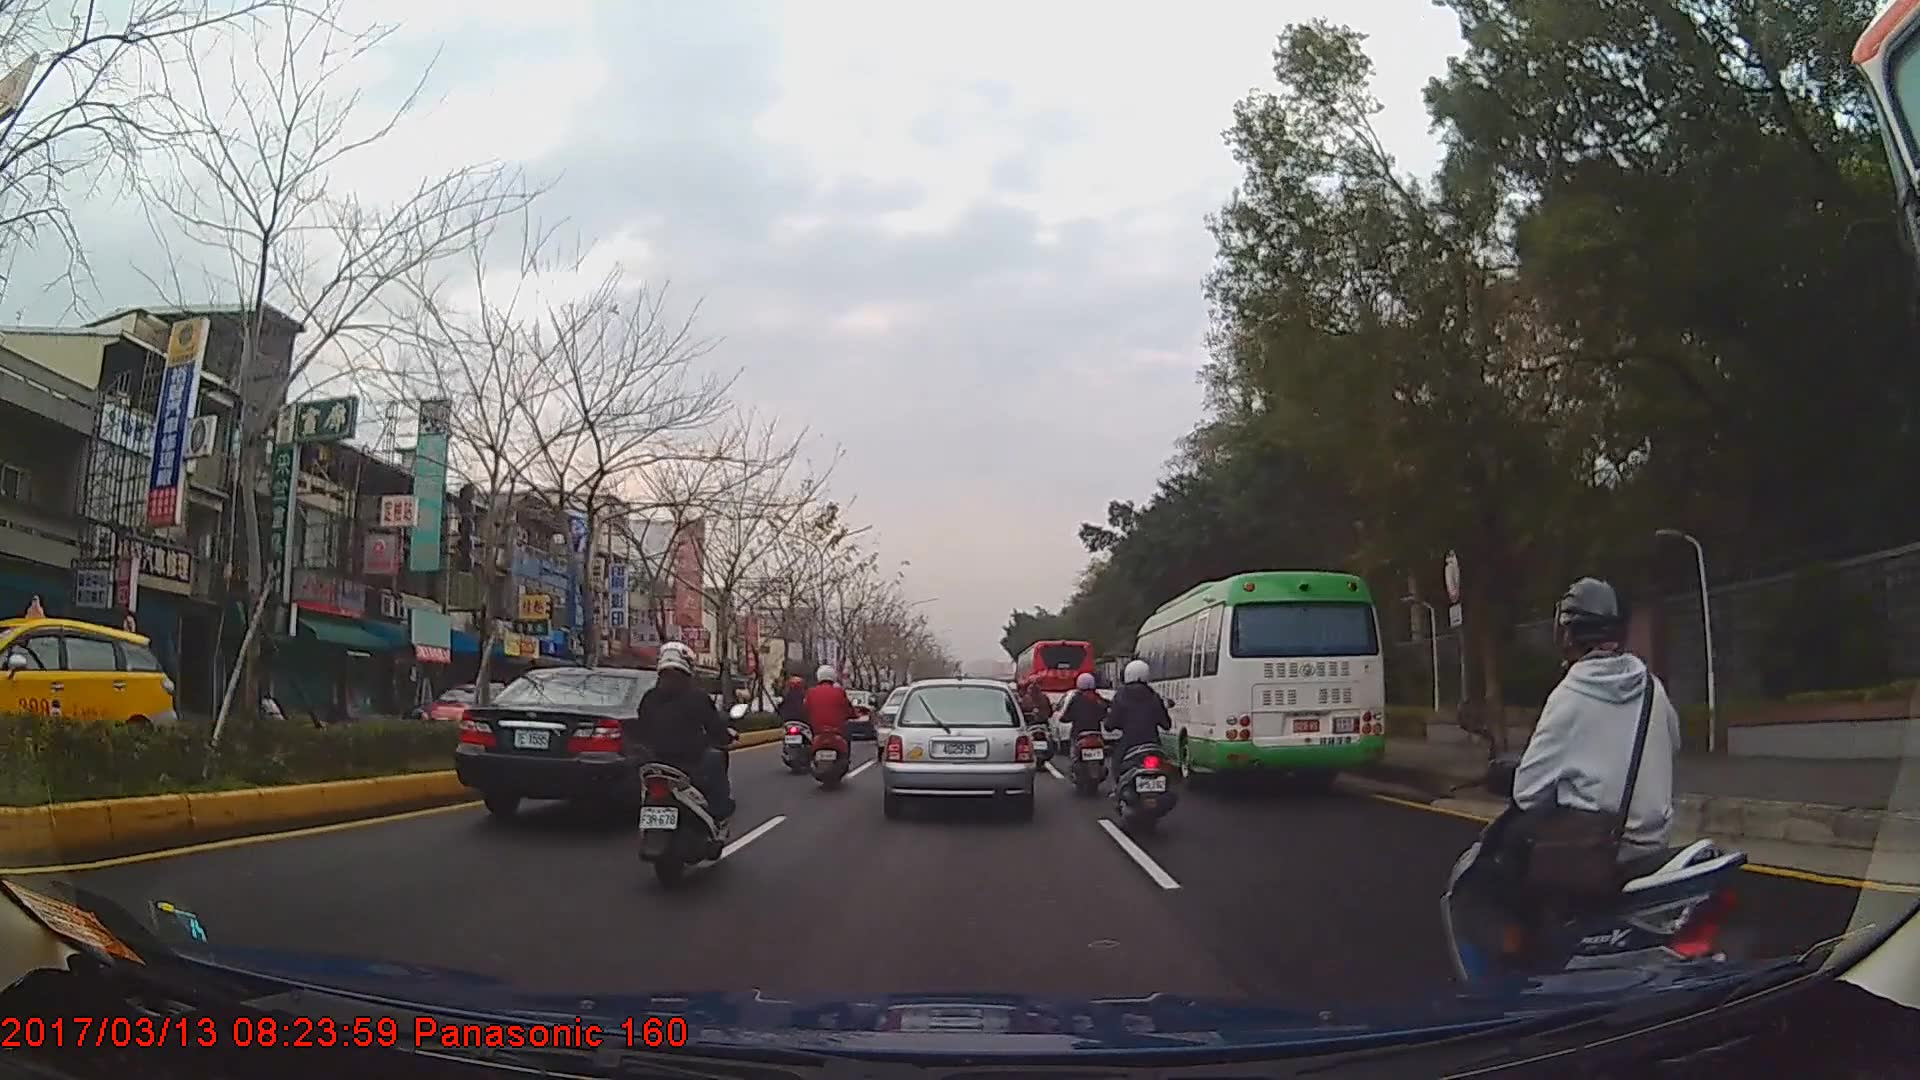rider: (1448, 575, 1753, 999), (635, 635, 745, 888), (1107, 658, 1184, 835), (1059, 669, 1113, 797), (804, 663, 854, 791), (778, 675, 818, 774), (1014, 670, 1051, 769)
vehicle: (1125, 570, 1388, 798), (452, 663, 730, 830), (0, 593, 177, 754), (881, 677, 1032, 817), (1013, 630, 1098, 726)
